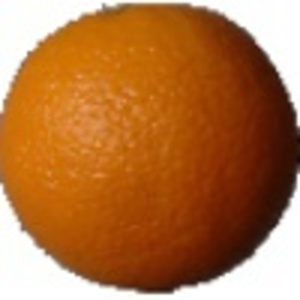laranja: (3, 2, 300, 298)
